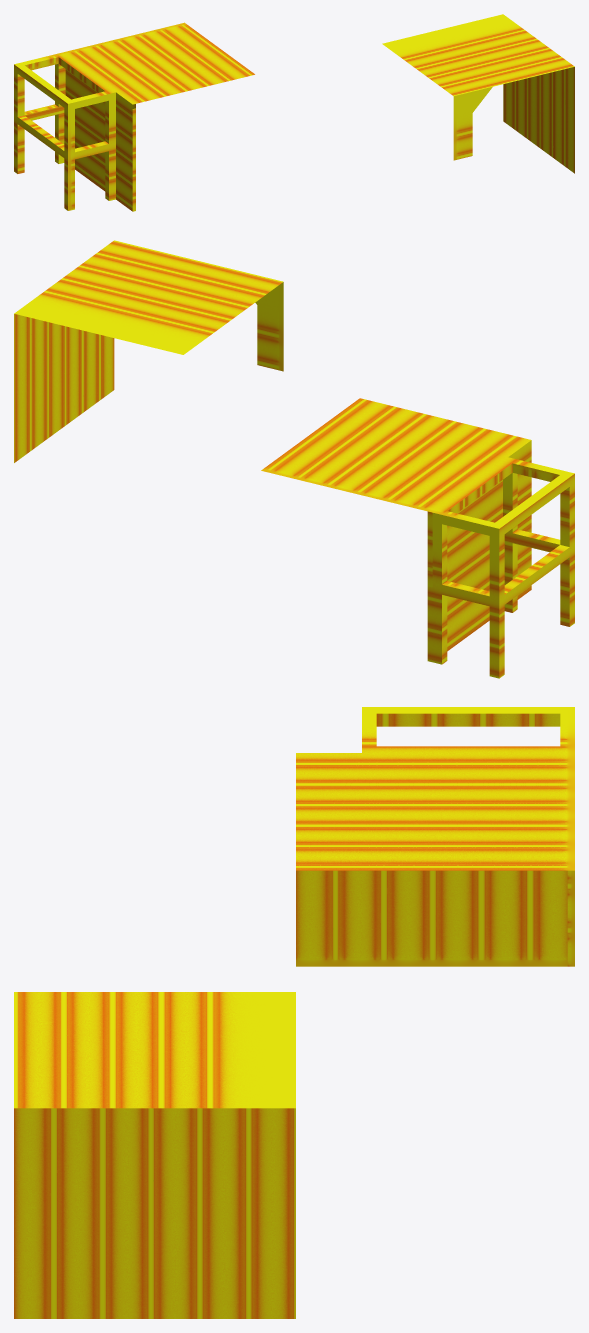
The model's file is RB_Back.fbx.
3 views of the same model, one above another, from view 1: azimuth 30°, elevation 25°; view 2: azimuth 150°, elevation 25°; view 3: azimuth 270°, elevation 25° (orthographic). The views are drawn at different scales.
Visible parts, largest first — view 1: Cube.547; view 2: Cube.547; view 3: Cube.547.
Boxes of the visible parts, bbox=[...] form: Cube.547: bbox=[14, 14, 574, 211]; Cube.547: bbox=[14, 240, 574, 678]; Cube.547: bbox=[14, 707, 574, 1318].
Bounding box in the file's own units: 6127 × 1530 × 3620.
